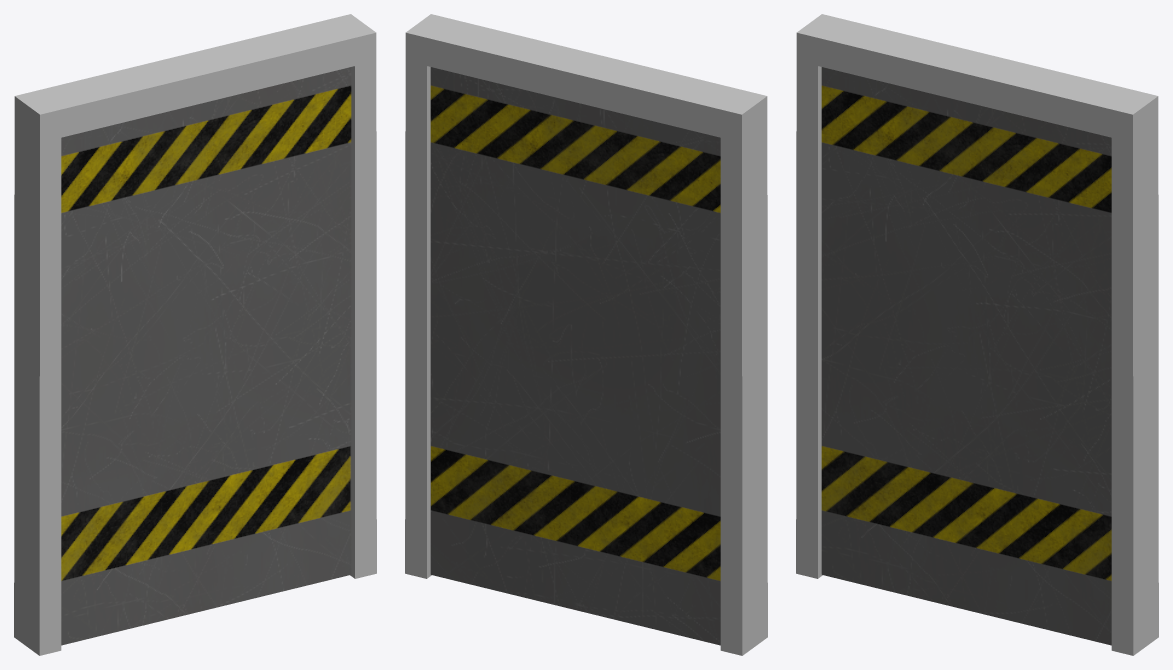
File: powerdoor.fbx
3 views of the same model, side by side, from view 1: azimuth 30°, elevation 25°; view 2: azimuth 150°, elevation 25°; view 3: azimuth 330°, elevation 25° (orthographic).
Parts seen in each view (by area): view 1: powerdoor, powerdoorframe; view 2: powerdoor, powerdoorframe; view 3: powerdoor, powerdoorframe.
Boxes of the visible parts, left/top/right/bottom form: powerdoor: left=61, top=67, right=351, bottom=645; powerdoorframe: left=14, top=14, right=376, bottom=655; powerdoor: left=430, top=67, right=720, bottom=645; powerdoorframe: left=405, top=14, right=767, bottom=655; powerdoor: left=821, top=67, right=1111, bottom=645; powerdoorframe: left=796, top=14, right=1158, bottom=655.
Bounding box in the file's own units: 384 × 589 × 50.28.
